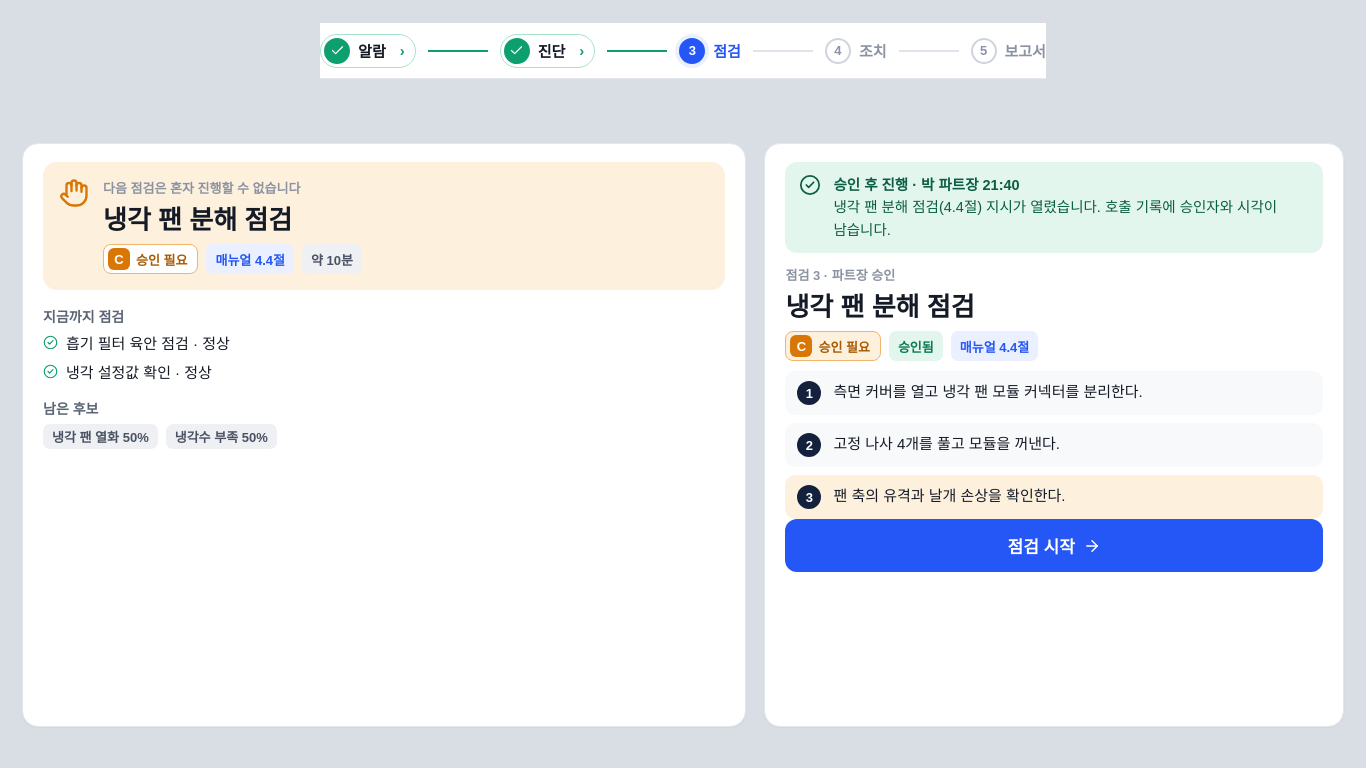
Test: 세션 화면 넘김(기기 표시) › 승인 답: 승인 화면 → '점검 시작' → 그 C 점검 지시 · 결과 입력(T10 / ans_approved → T06)
Expected: the element with class "banner" is shown, [785,162,1323,253]
Click the button "점검 시작": coordinates (1054, 546) [785,519,1323,572]
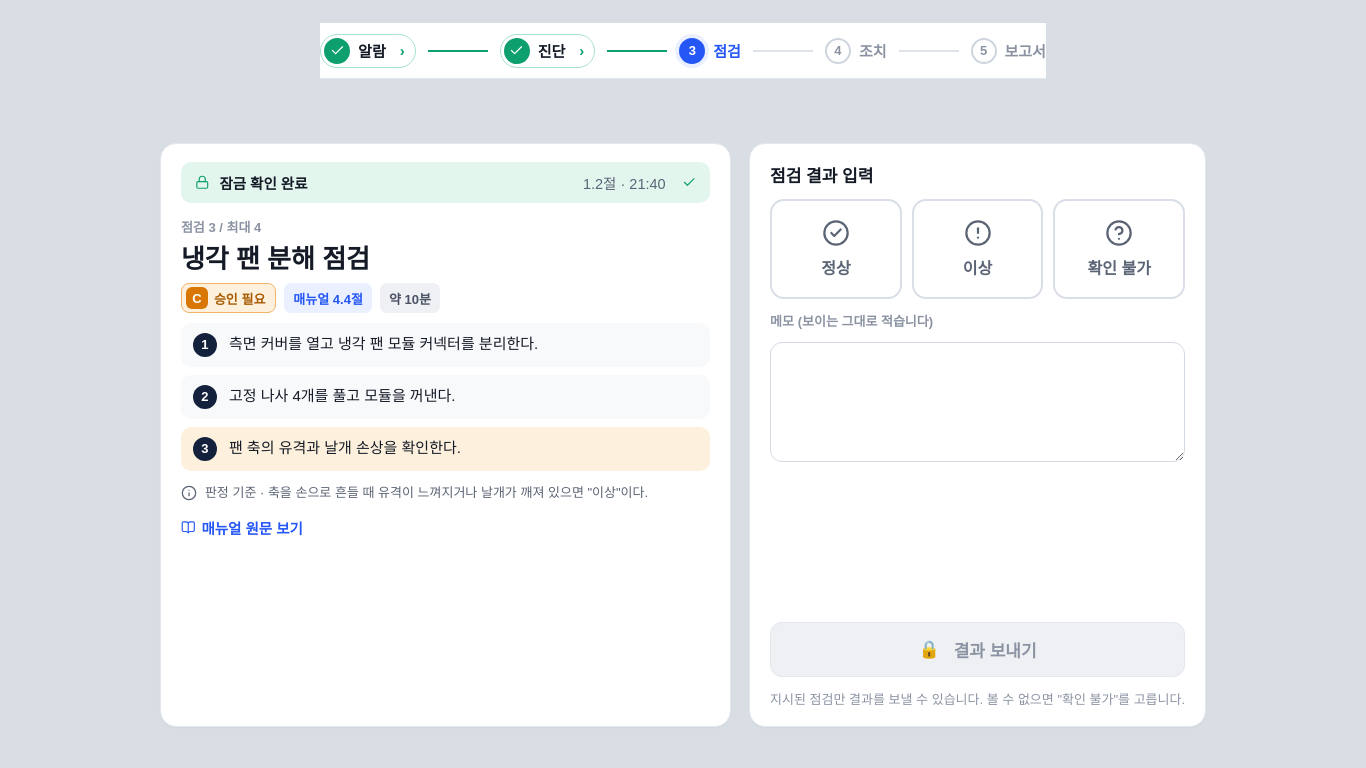
Expected: the heading "냉각 팬 분해 점검" is shown, [181,244,370,274]
Now the element with class "rbtns" is shown, box [770,199,1185,299]
